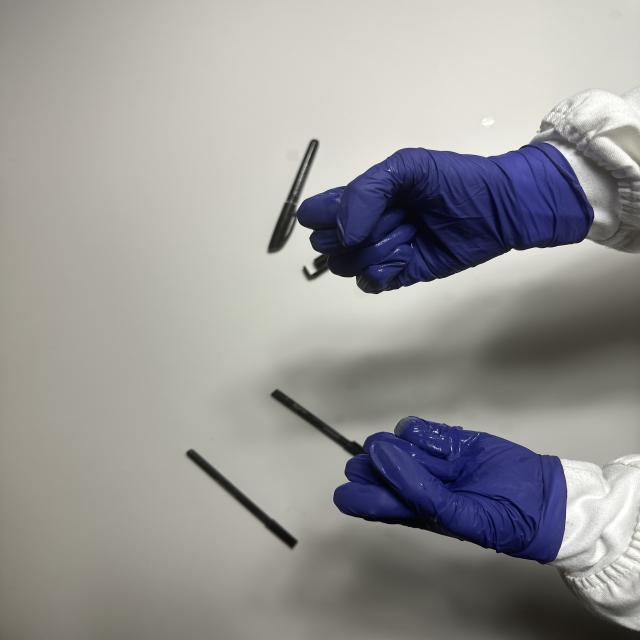gloves_contaminated: (298, 144, 593, 292), (334, 417, 566, 562)
